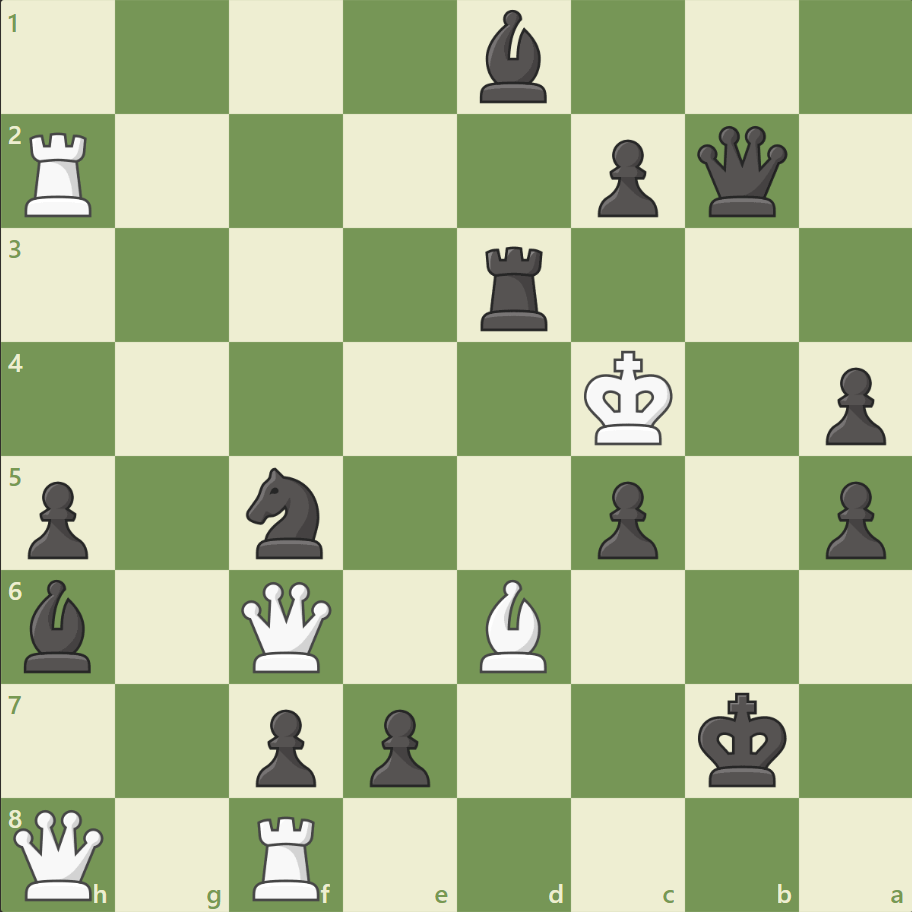B: (471, 574, 555, 676)
K: (579, 344, 679, 452)
Q: (237, 576, 336, 676), (10, 804, 109, 903)
R: (246, 806, 329, 904), (19, 125, 102, 222)
b: (471, 6, 555, 109), (17, 574, 101, 676)
k: (692, 685, 792, 793)
n: (238, 461, 335, 564)
p: (247, 700, 322, 791), (20, 473, 95, 564), (361, 700, 435, 791), (815, 473, 889, 564), (588, 473, 662, 564), (815, 359, 889, 450), (588, 132, 662, 223)
q: (691, 122, 790, 222)
r: (473, 239, 556, 336)
